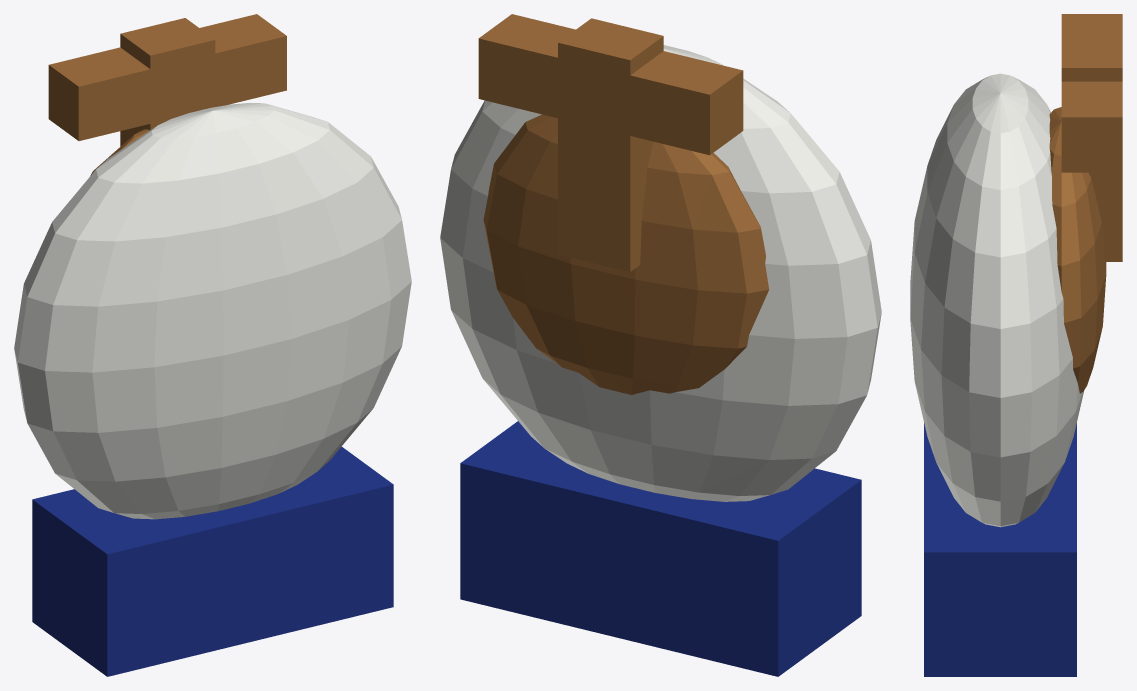
Rendered from save-glove.obj.
3 views of the same model, side by side, from view 1: azimuth 30°, elevation 25°; view 2: azimuth 150°, elevation 25°; view 3: azimuth 270°, elevation 25° (orthographic). The views are drawn at different scales.
Parts seen in each view (by area): view 1: SaveGlove; view 2: SaveGlove; view 3: SaveGlove.
Boxes of the visible parts, x1,y1,x2,y2 form: SaveGlove: [14, 14, 411, 676]; SaveGlove: [440, 14, 881, 676]; SaveGlove: [910, 14, 1122, 676].
Size of the model in its own units: 0.3 by 0.4 by 0.1391.
